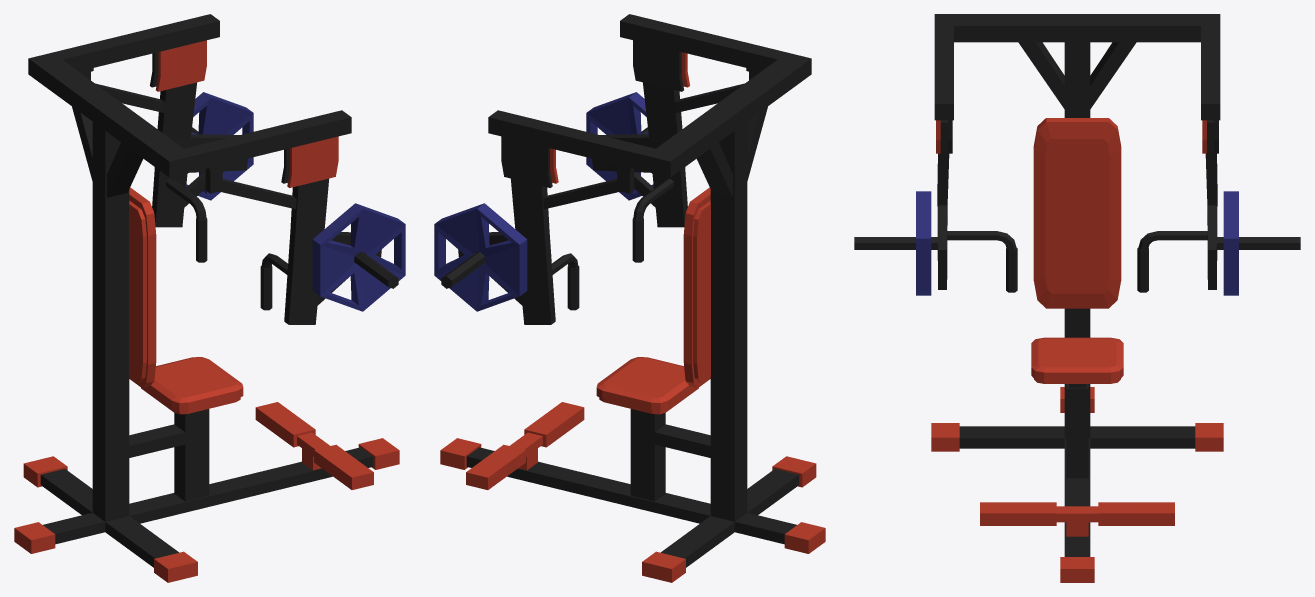
Rendered from May_tap_tay.fbx.
3 views of the same model, side by side, from view 1: azimuth 30°, elevation 25°; view 2: azimuth 150°, elevation 25°; view 3: azimuth 270°, elevation 25° (orthographic).
Parts seen in each view (by area): view 1: Mesh_may_tap_tay.012, Mesh_may_tap_tay.002, Mesh_may_tap_tay.015; view 2: Mesh_may_tap_tay.012, Mesh_may_tap_tay.015, Mesh_may_tap_tay.002; view 3: Mesh_may_tap_tay.012, Mesh_may_tap_tay.002, Mesh_may_tap_tay.015.
Boxes of the visible parts, left/top/right/bottom form: Mesh_may_tap_tay.012: left=14, top=14, right=399, bottom=582; Mesh_may_tap_tay.002: left=312, top=203, right=405, bottom=311; Mesh_may_tap_tay.015: left=186, top=92, right=253, bottom=200; Mesh_may_tap_tay.012: left=440, top=14, right=825, bottom=582; Mesh_may_tap_tay.015: left=434, top=203, right=527, bottom=311; Mesh_may_tap_tay.002: left=586, top=92, right=653, bottom=200; Mesh_may_tap_tay.012: left=854, top=14, right=1300, bottom=582; Mesh_may_tap_tay.002: left=916, top=191, right=931, bottom=295; Mesh_may_tap_tay.015: left=1223, top=191, right=1238, bottom=295.
Bounding box in the file's own units: 15.88 × 17.27 × 16.47.
